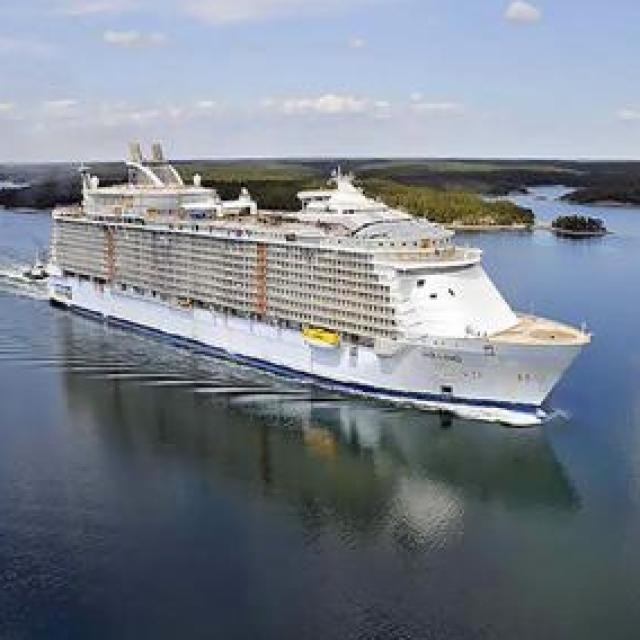passenger ship: (17, 154, 616, 414)
